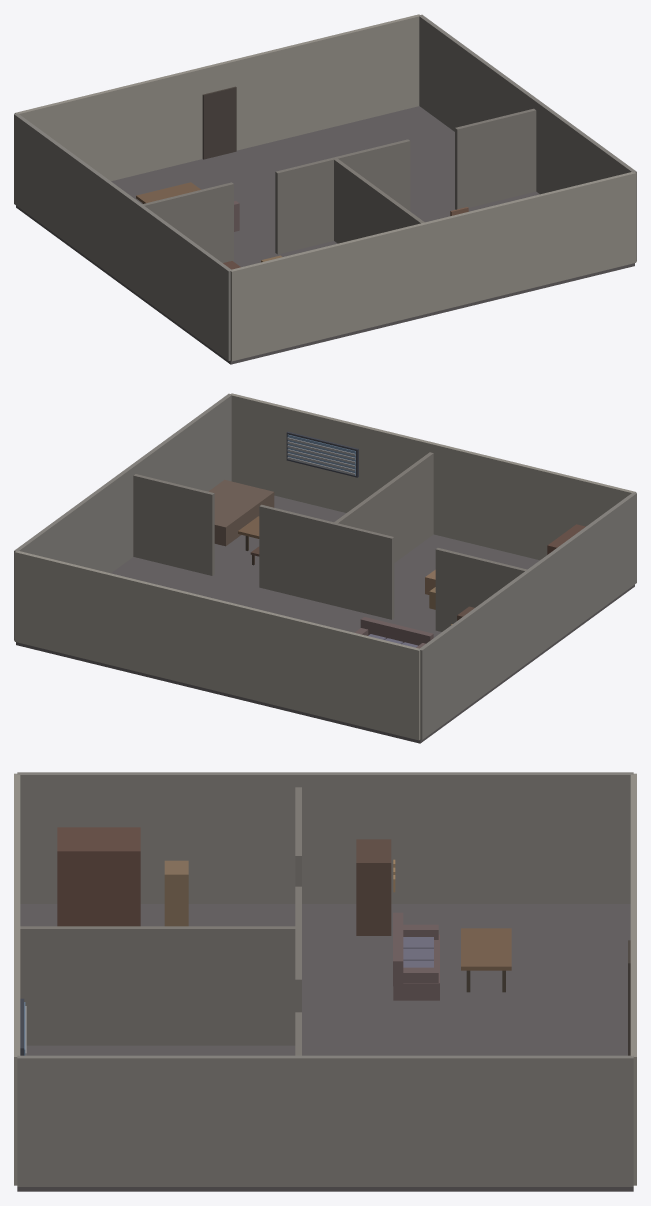
Rendered from casaFamiliarDars.obj.
The picture shows the model from 3 angles, top to bottom: view 1: azimuth 30°, elevation 25°; view 2: azimuth 150°, elevation 25°; view 3: azimuth 270°, elevation 25°; orthographic projection. The views are drawn at different scales.
Visible parts, largest first — view 1: Muro_del_fondo, Pared_lateral, Muro_frontal, Suelo_continuo, Muro_de_cocina, Tabique_del_almacén, División_familiar, Puerta_BARRIO, Mesa_de_consulta; view 2: Muro_frontal, Pared_lateral, Muro_del_fondo, Suelo_continuo, Muro_de_cocina, Tabique_del_almacén, División_familiar, Cocina_familiar, Persiana, Respaldo, Vidrio_de_ventana, Marco_de_ventana; view 3: Pared_lateral, Suelo_continuo, División_familiar, Estante_familiar, Vitrina, Muro_frontal, Muro_del_fondo, Mesa_de_consulta, Caja_guardada, Brazo_de_sofá, Sofá, Tabique_del_almacén (+3 smaller).
Part boxes in pixels (x1,y1,x2,y2): Muro_del_fondo: (230, 172, 636, 361); Pared_lateral: (14, 14, 636, 360); Muro_frontal: (14, 14, 420, 181); Suelo_continuo: (16, 106, 634, 364); Muro_de_cocina: (334, 108, 536, 211); Tabique_del_almacén: (142, 157, 334, 262); División_familiar: (333, 158, 424, 243); Puerta_BARRIO: (202, 86, 236, 159); Mesa_de_consulta: (136, 182, 200, 203); Muro_frontal: (14, 551, 420, 740); Pared_lateral: (14, 393, 636, 739); Muro_del_fondo: (230, 393, 636, 560); Suelo_continuo: (16, 495, 634, 743); Muro_de_cocina: (133, 474, 335, 605); Tabique_del_almacén: (333, 523, 526, 631); División_familiar: (334, 452, 433, 562); Cocina_familiar: (209, 479, 274, 546); Persiana: (287, 437, 355, 475); Respaldo: (360, 617, 433, 645); Vidrio_de_ventana: (287, 434, 355, 475); Marco_de_ventana: (286, 431, 358, 477); Pared_lateral: (17, 772, 633, 1186); Suelo_continuo: (17, 904, 633, 1191); División_familiar: (20, 926, 295, 1045); Estante_familiar: (57, 827, 140, 926); Vitrina: (356, 839, 391, 935); Muro_frontal: (630, 773, 636, 1185); Muro_del_fondo: (14, 773, 20, 1185); Mesa_de_consulta: (461, 928, 511, 970); Caja_guardada: (164, 860, 188, 926); Brazo_de_sofá: (403, 924, 438, 982); Sofá: (393, 934, 439, 1000); Tabique_del_almacén: (295, 787, 301, 927).
Bounding box in the file's own units: 25.24 × 5.54 × 23.24.
